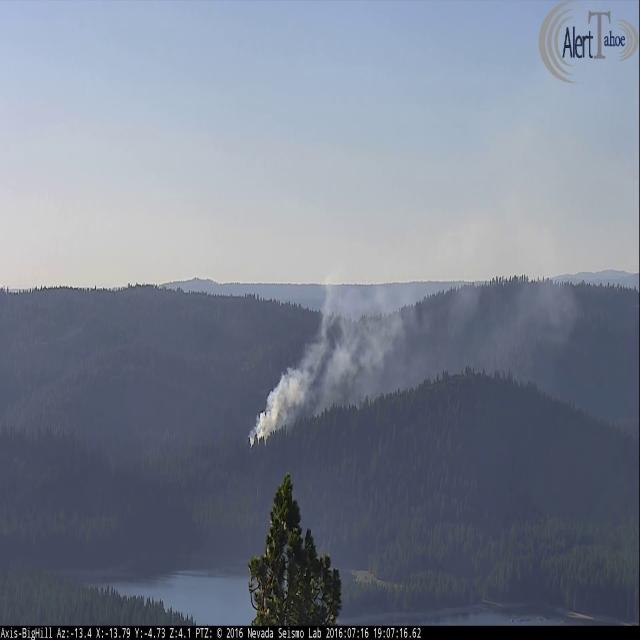smoke: (248, 97, 585, 445)
